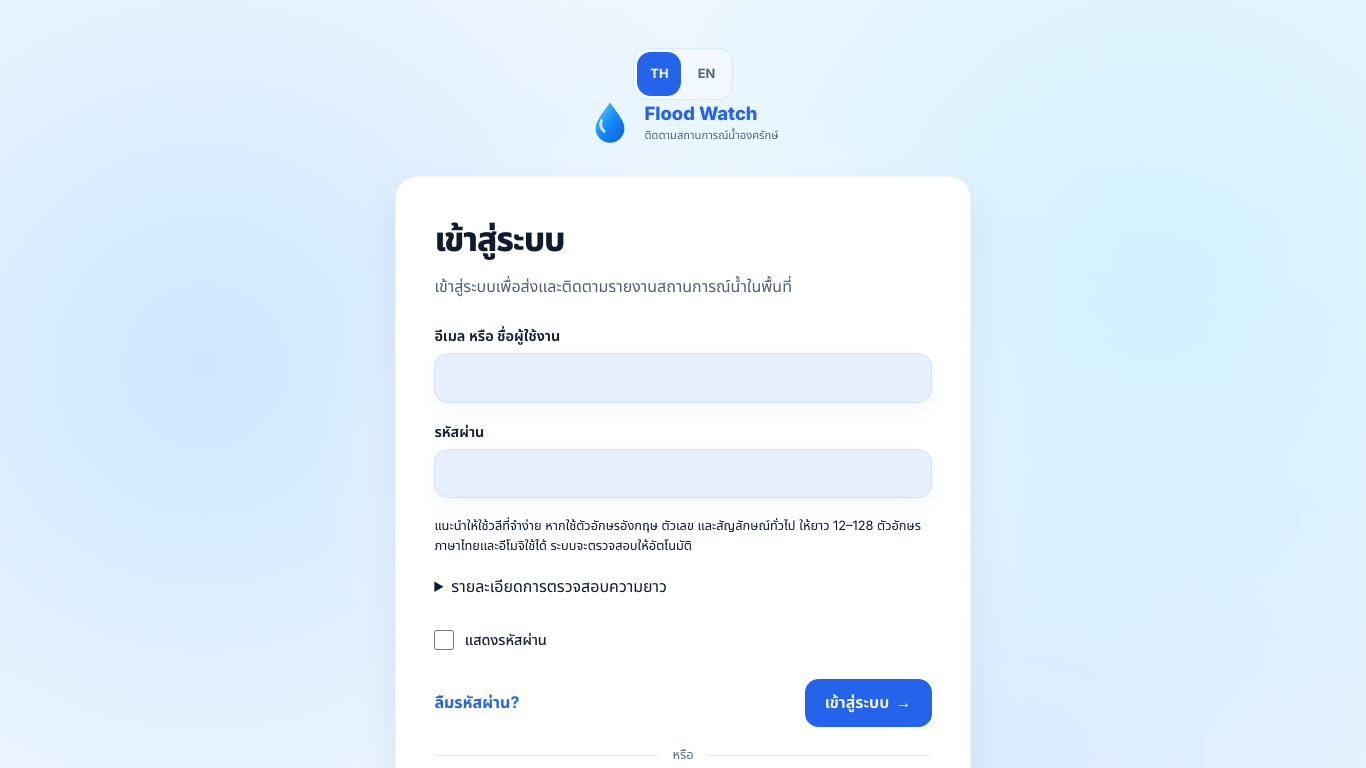
auth localization catalogs › switches the auth form copy without losing entered values
Step 1. Type "person@example.test" into the field labelled "อีเมล หรือ ชื่อผู้ใช้งาน" → (683, 378), box [434,353,932,402]
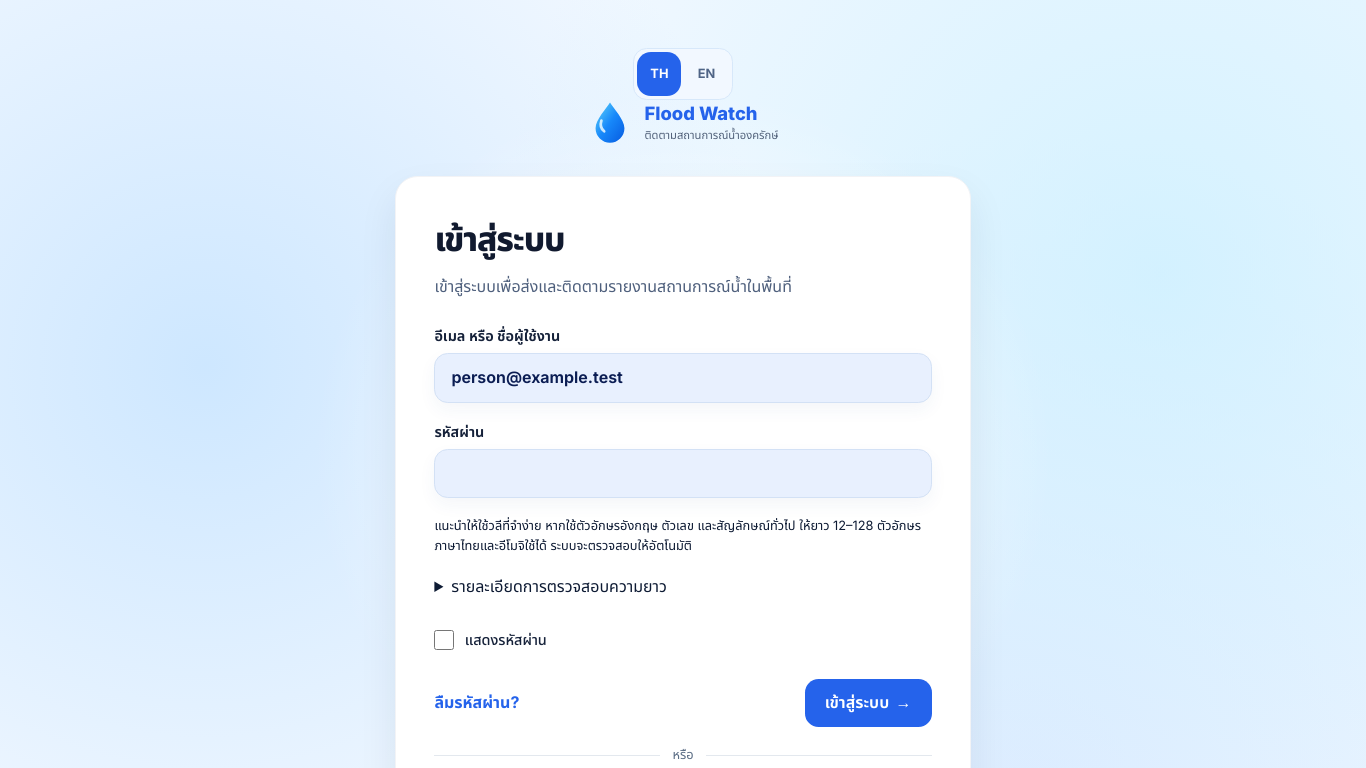
Step 2. Click the button "EN" → (707, 74), box [685,52,729,96]
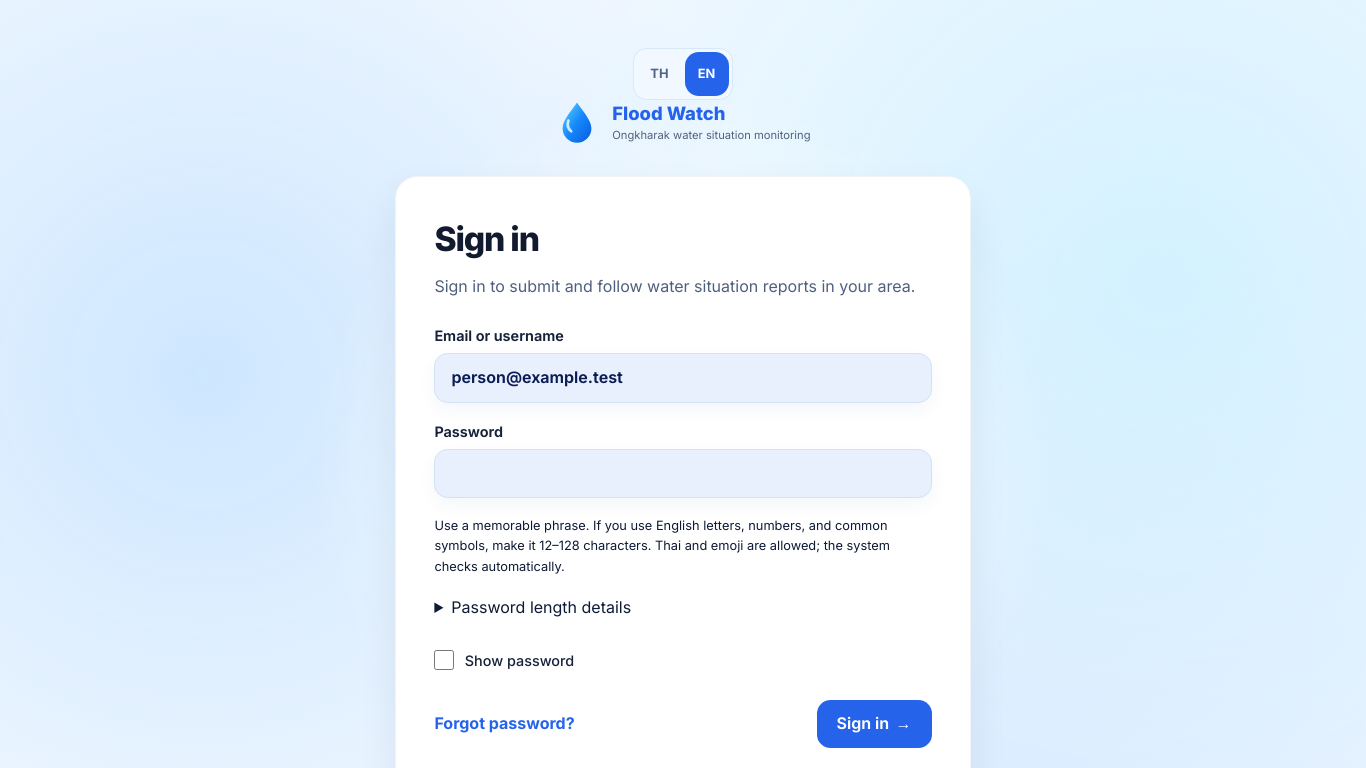
Result: the heading "Sign in" is shown at [434,218,539,259]
Result: the text "memorable phrase" is shown at [434,518,890,574]
Step 3. Click the button "TH" → (659, 74), box [637,52,681,96]
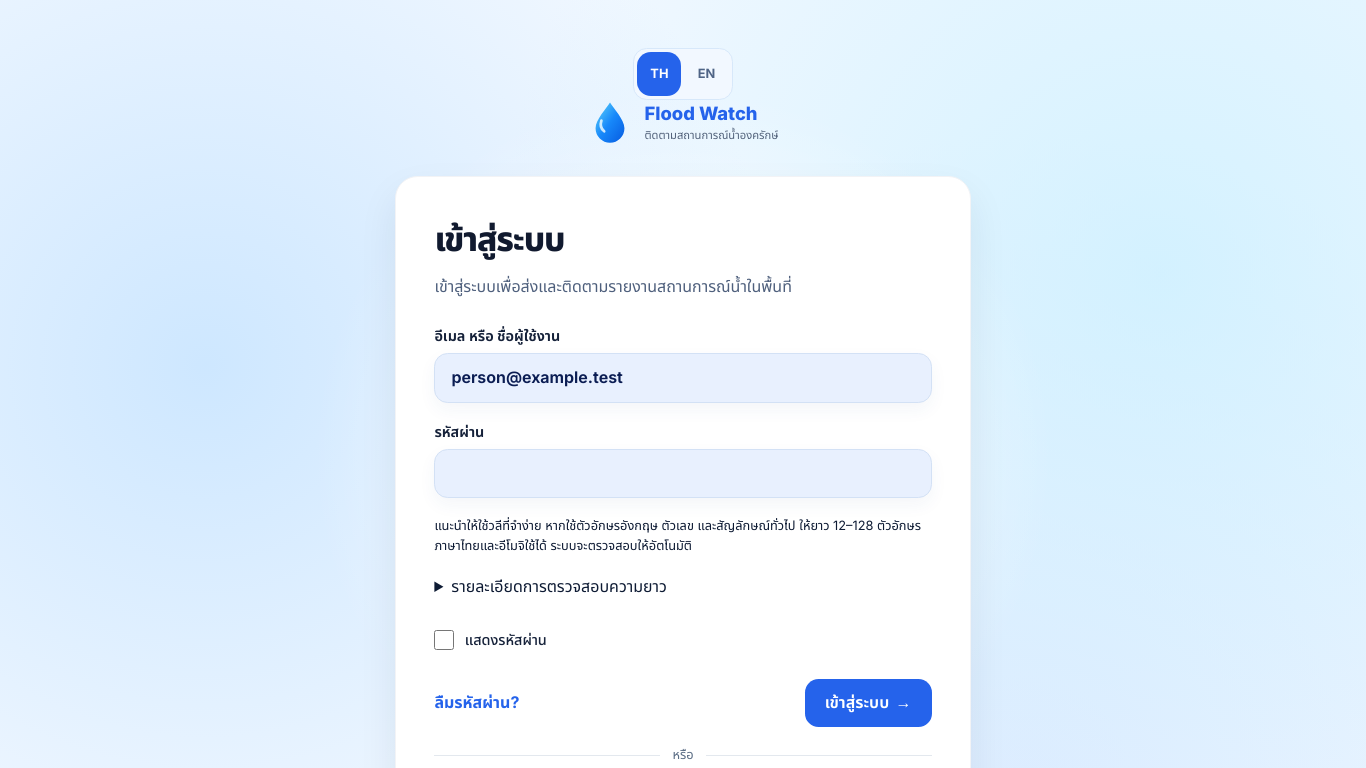
Result: the heading "เข้าสู่ระบบ" is shown at [434,218,564,259]
